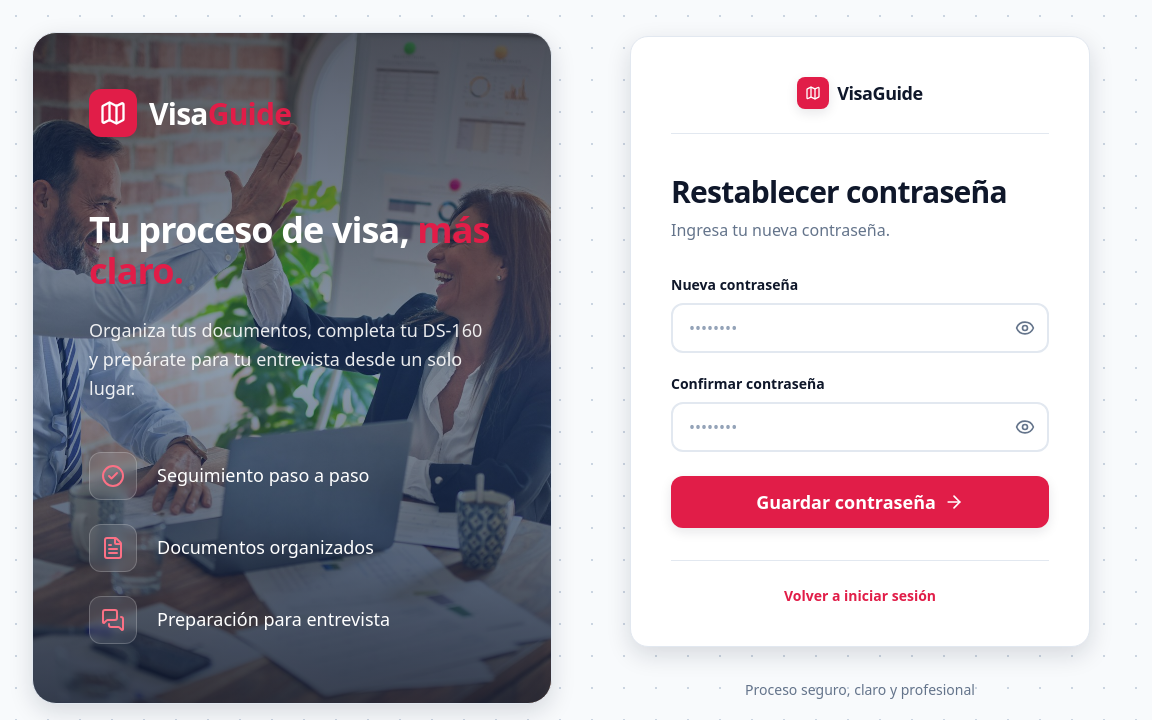
Scenario: pantallas de autenticación › valida la nueva contraseña y la envía junto al token del enlace
Type "clave123" into the password field labelled "Nueva contraseña" at (860, 328), box [671, 303, 1049, 353]
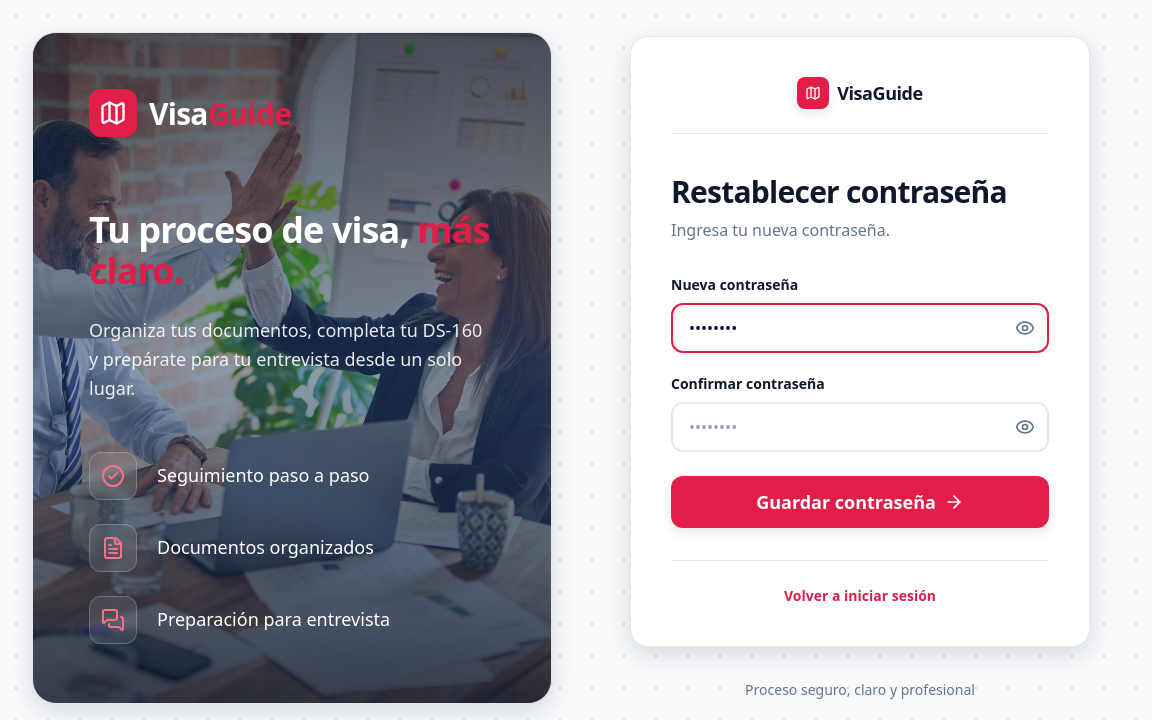
Type "otra-clave" into the password field labelled "Confirmar contraseña" at (860, 427), box [671, 402, 1049, 452]
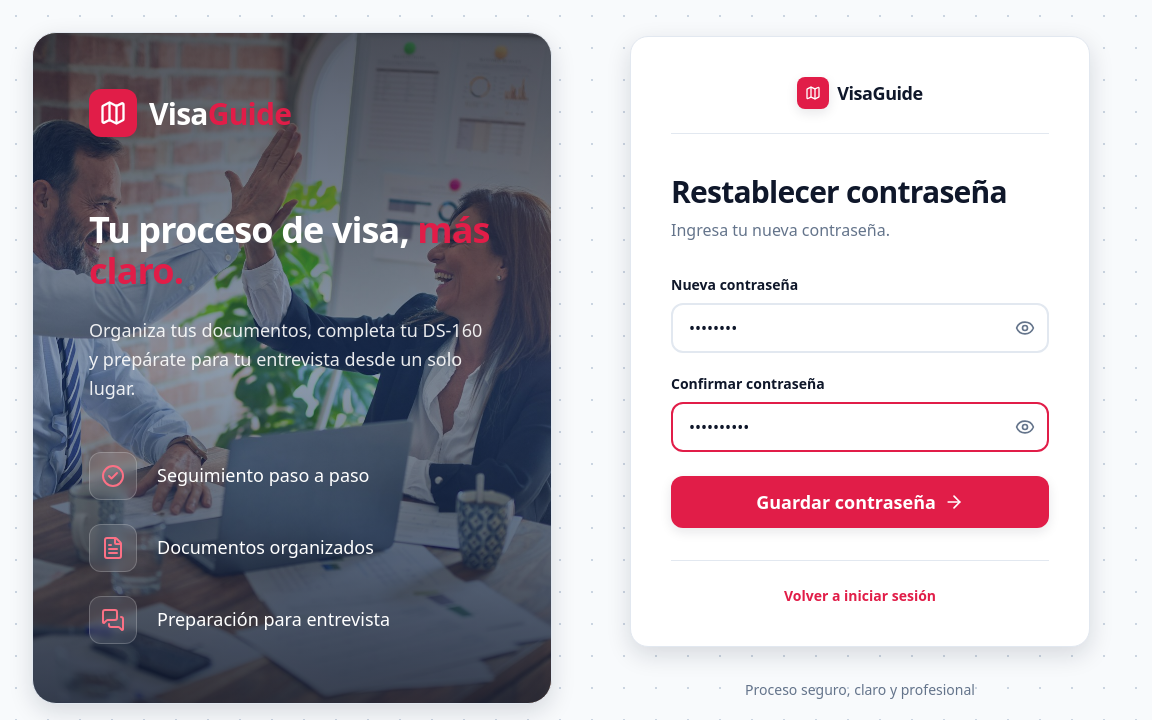
Click the button "Guardar contraseña" at (860, 502), box [671, 476, 1049, 528]
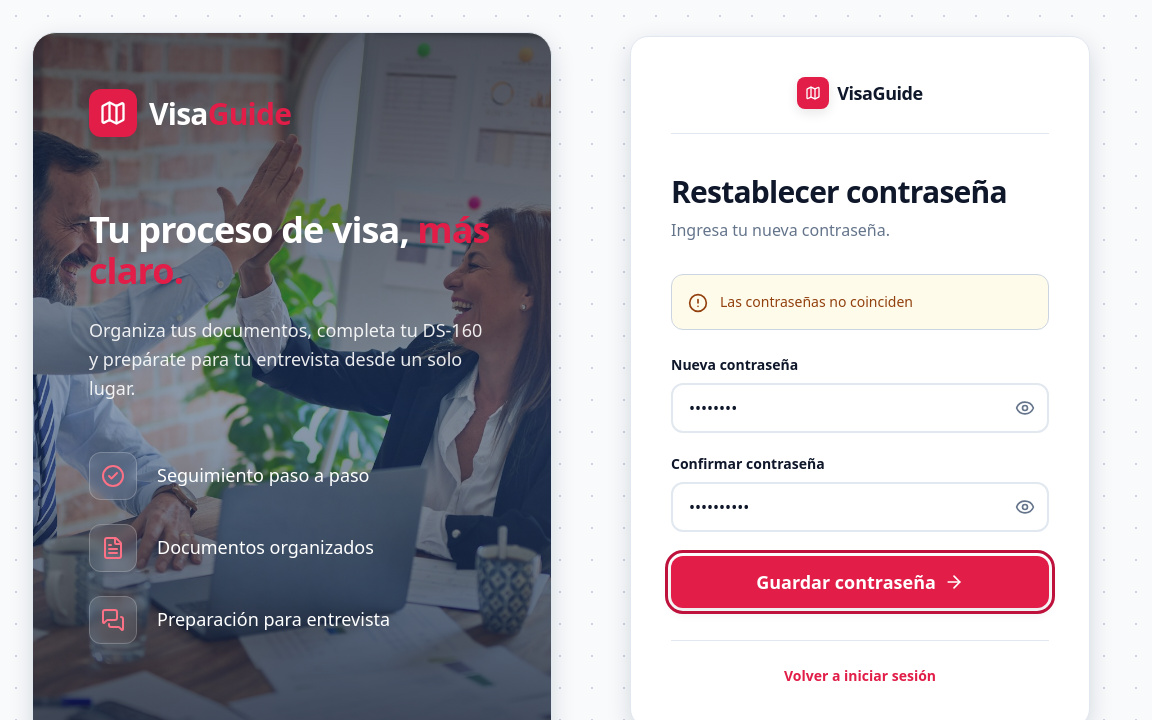
Now the message reads "Las contraseñas no coinciden", box [720, 292, 913, 311]
Type "clave123" into the password field labelled "Confirmar contraseña" at (860, 507), box [671, 482, 1049, 532]
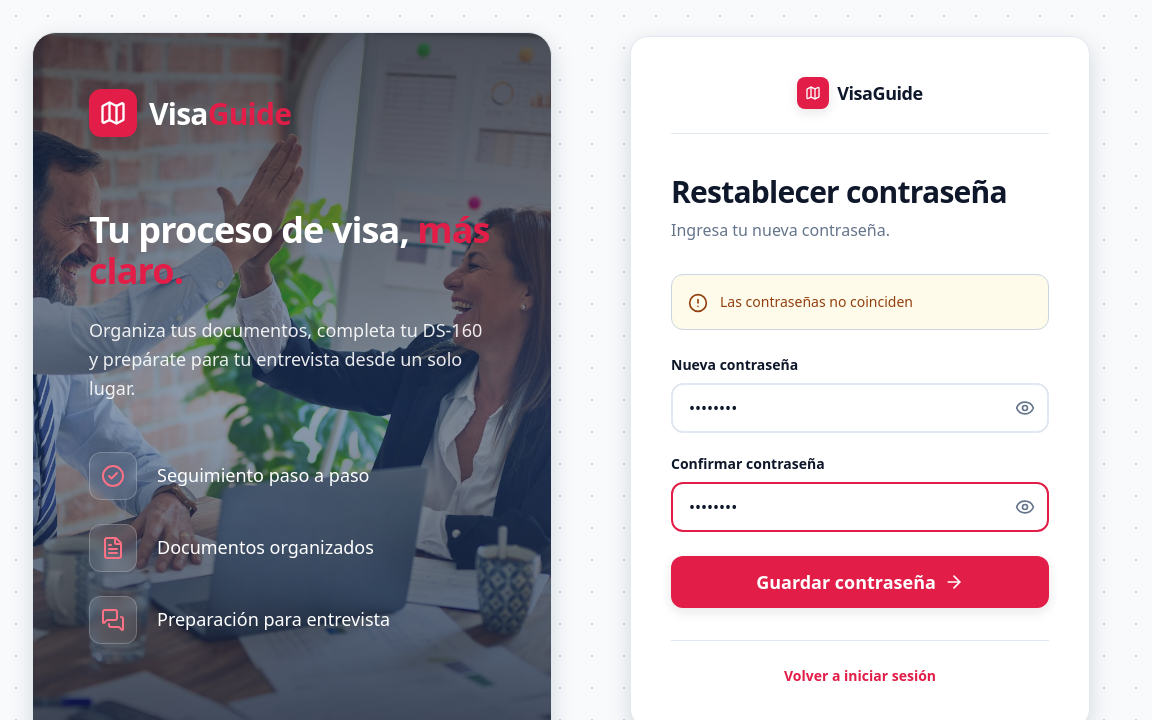
Click the button "Guardar contraseña" at (860, 582), box [671, 556, 1049, 608]
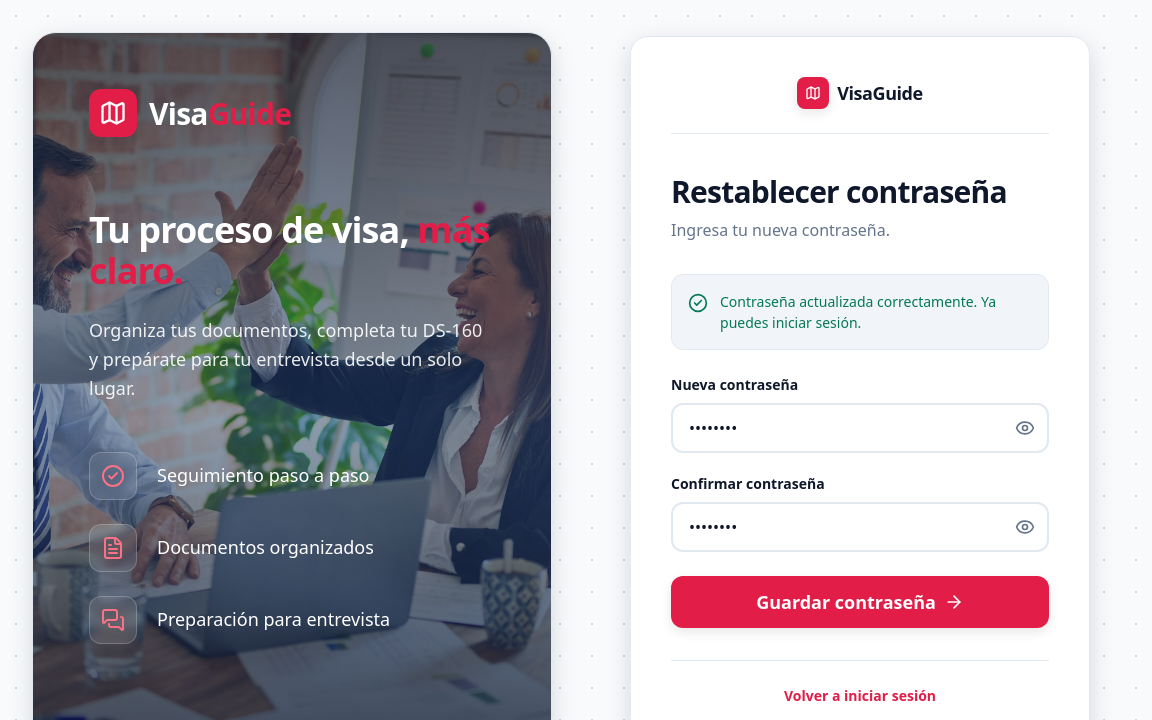
Now the message shows "Contraseña actualizada correctamente", box [720, 292, 996, 332]
